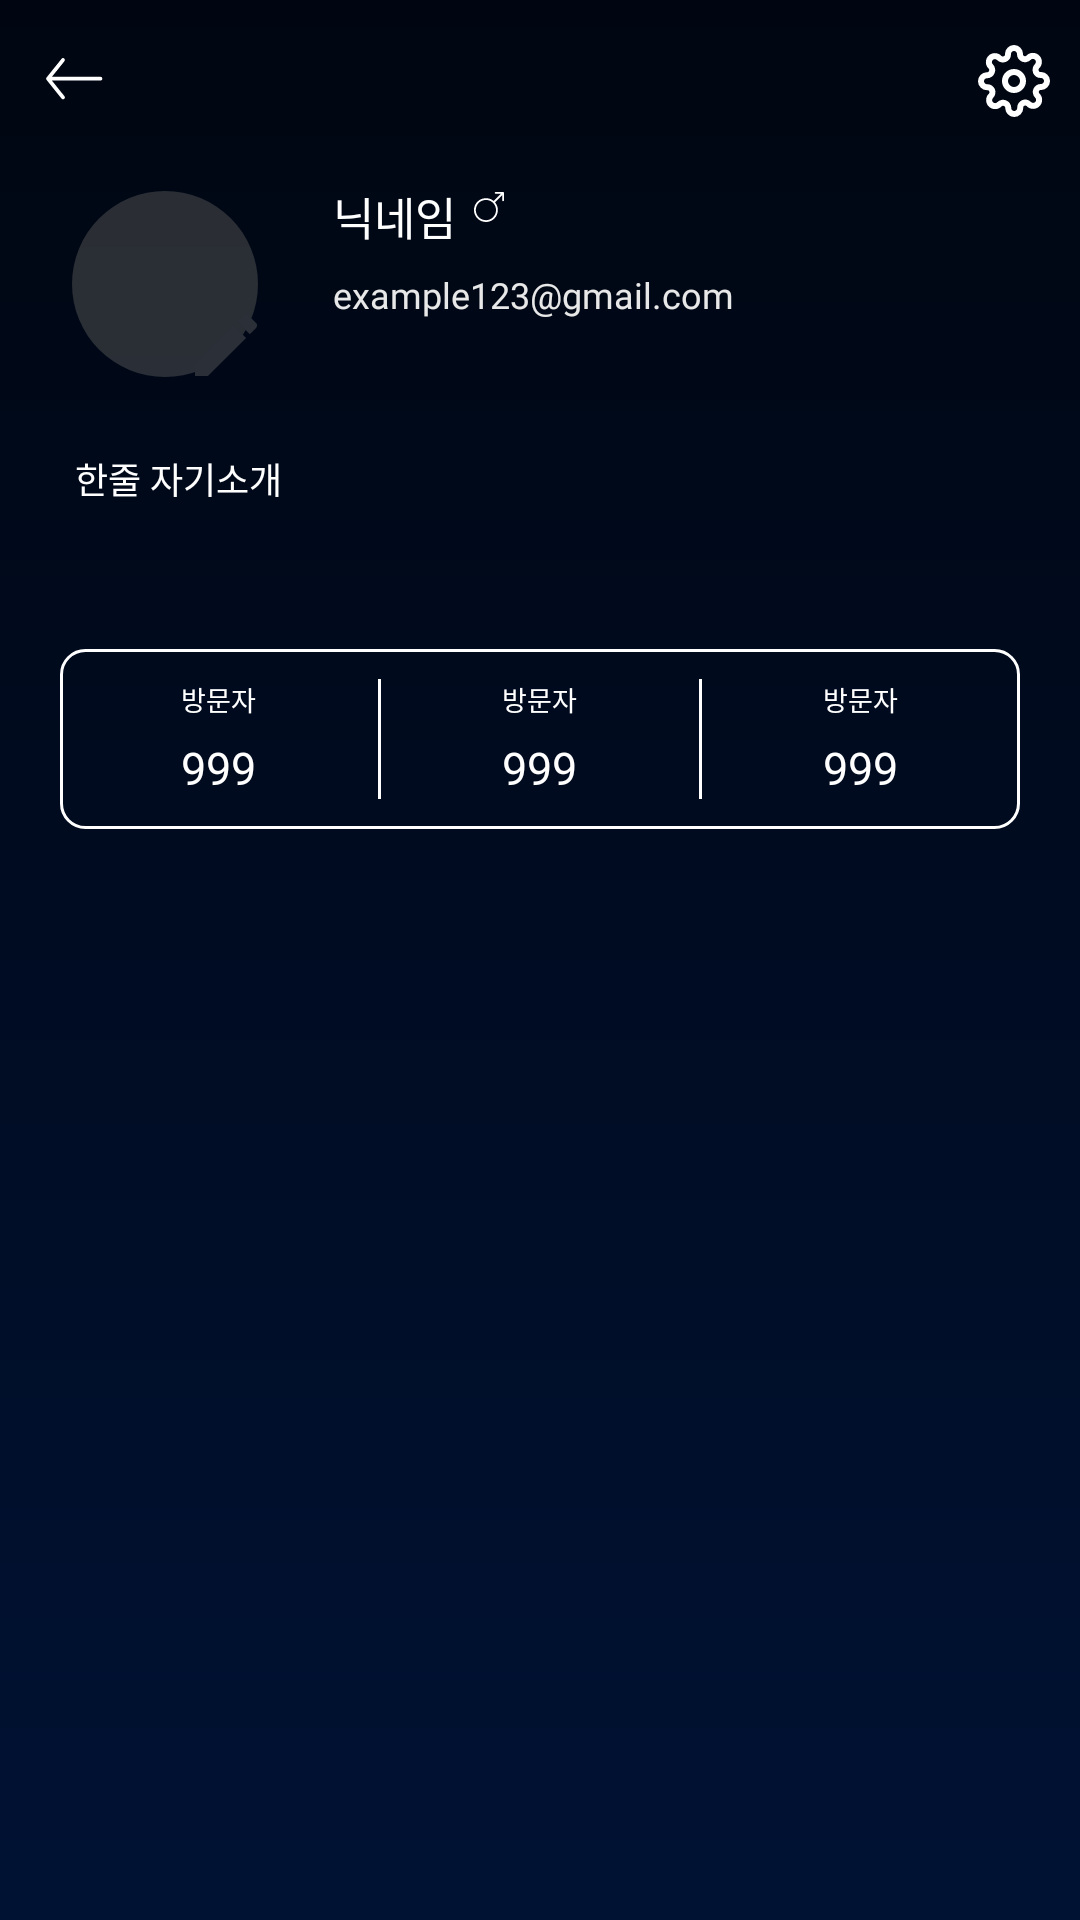

Icons on this 1080x1920 Android screen, each with the point to tap as [x,y]:
back: [74,79]
men: [489,207]
setting: [1014,81]
